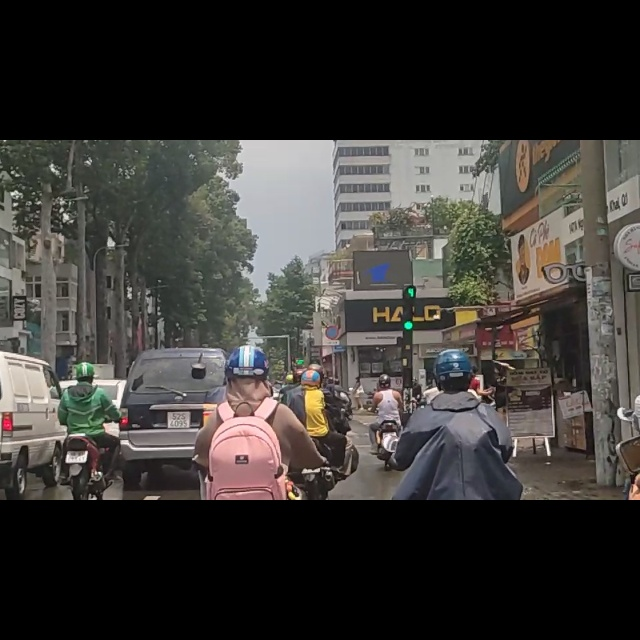bien_cam: (325, 329, 340, 353)
